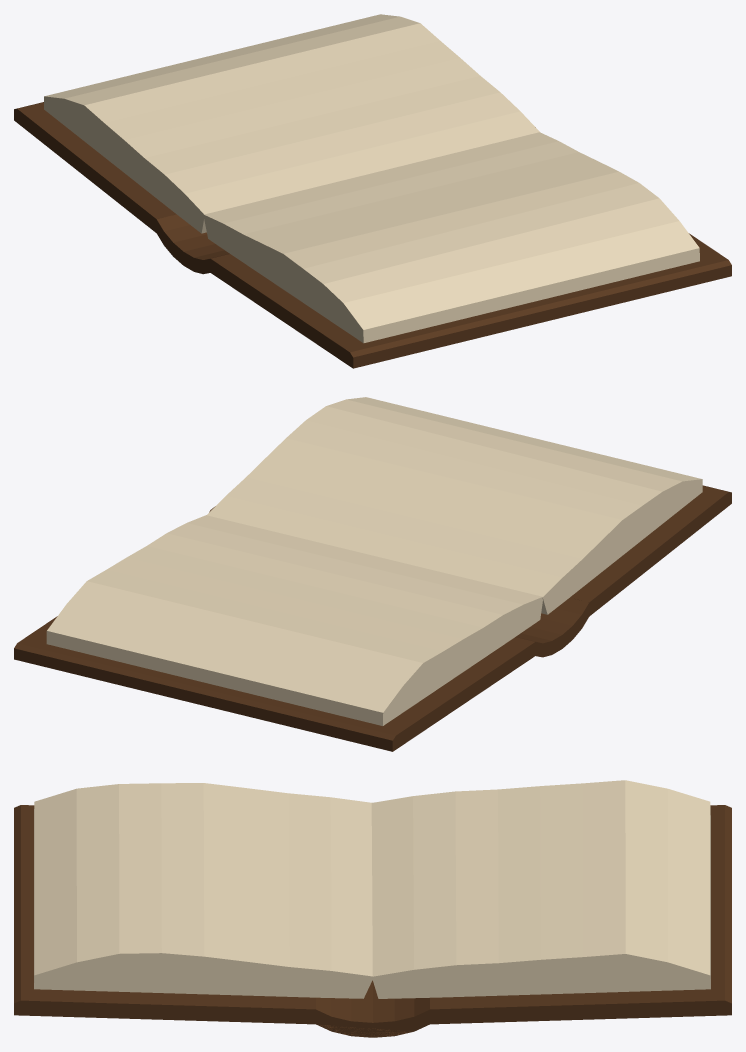
Rendered from Book_OP.fbx.
3 renders of one model, top to bottom at view 1: azimuth 30°, elevation 25°; view 2: azimuth 150°, elevation 25°; view 3: azimuth 270°, elevation 25°, orthographic. The views are drawn at different scales.
Parts seen in each view (by area): view 1: Cube.001, Cylinder; view 2: Cube.001, Cylinder; view 3: Cube.001, Cylinder.
Part boxes in pixels (x1,y1,x2,y2): Cube.001: (44, 14, 699, 343); Cylinder: (14, 102, 731, 368); Cube.001: (46, 397, 702, 725); Cylinder: (14, 485, 731, 751); Cube.001: (34, 780, 710, 998); Cylinder: (14, 805, 731, 1037).
Size of the model in its own units: 263 by 45.72 by 408.
